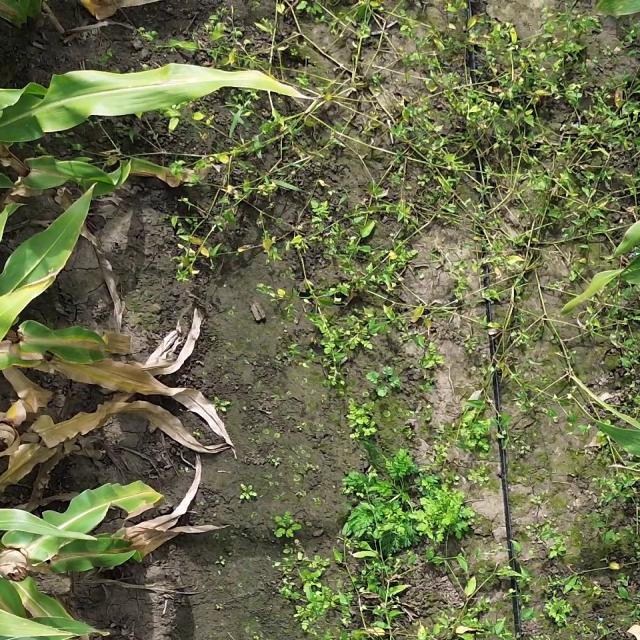northern-leaf-blight: (0, 200, 112, 366), (26, 475, 175, 555)
